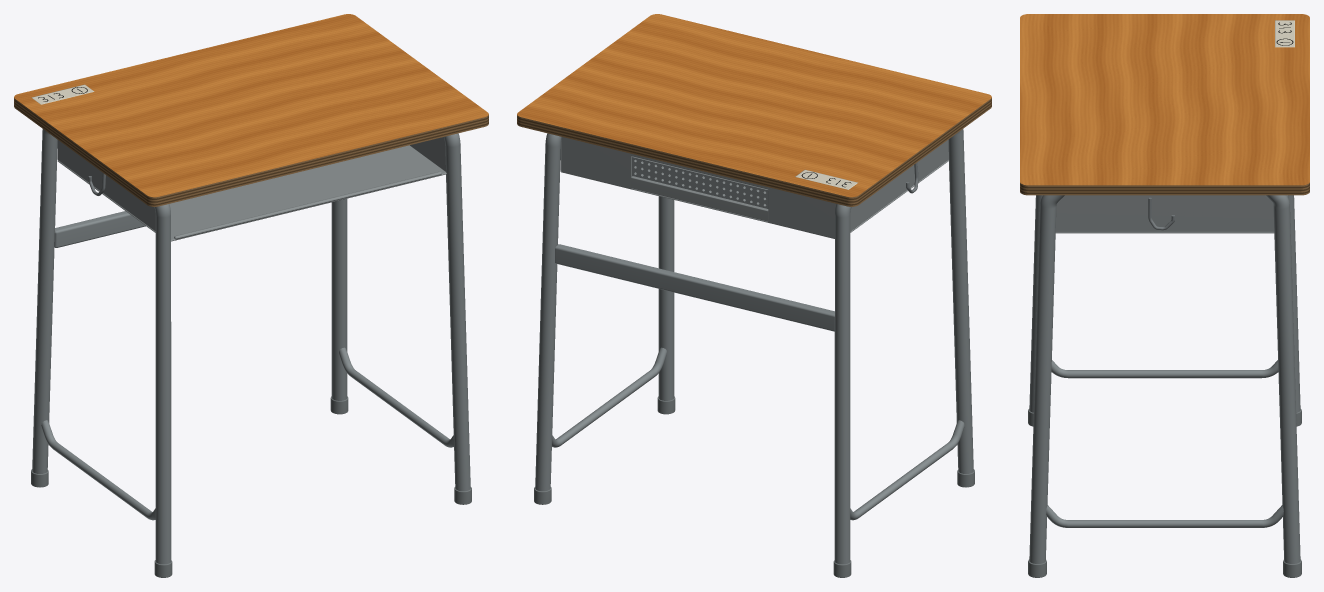
The model's file is desk.glb.
3 renders of one model, left to right at view 1: azimuth 30°, elevation 25°; view 2: azimuth 150°, elevation 25°; view 3: azimuth 270°, elevation 25°, orthographic. The views are drawn at different scales.
Visible parts, largest first — view 1: Desk_Body; view 2: Desk_Body; view 3: Desk_Body, Desk_Tape_313_Circled1.
Boxes of the visible parts, left/top/right/bottom form: Desk_Body: left=14, top=14, right=488, bottom=577; Desk_Body: left=517, top=14, right=991, bottom=577; Desk_Body: left=1020, top=14, right=1309, bottom=577; Desk_Tape_313_Circled1: left=1275, top=20, right=1294, bottom=47.
Size of the model in its own units: 0.7 by 0.7606 by 0.5.
9 materials, 2 textured.
